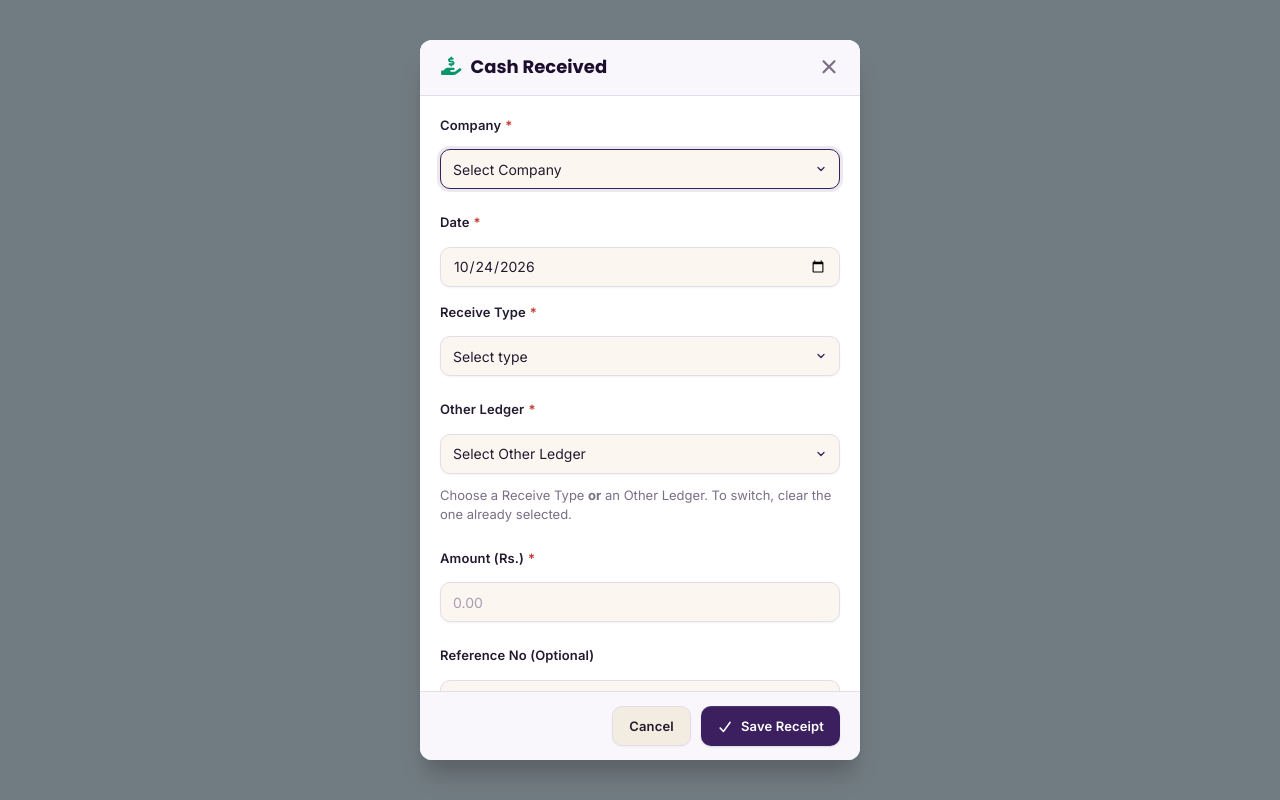
Test case: a validation error is shown at the top of the form and marks the field
The width and height of the screenshot is (1280, 800).
Click the button "Save Receipt": (770, 726) [701,706,840,746]
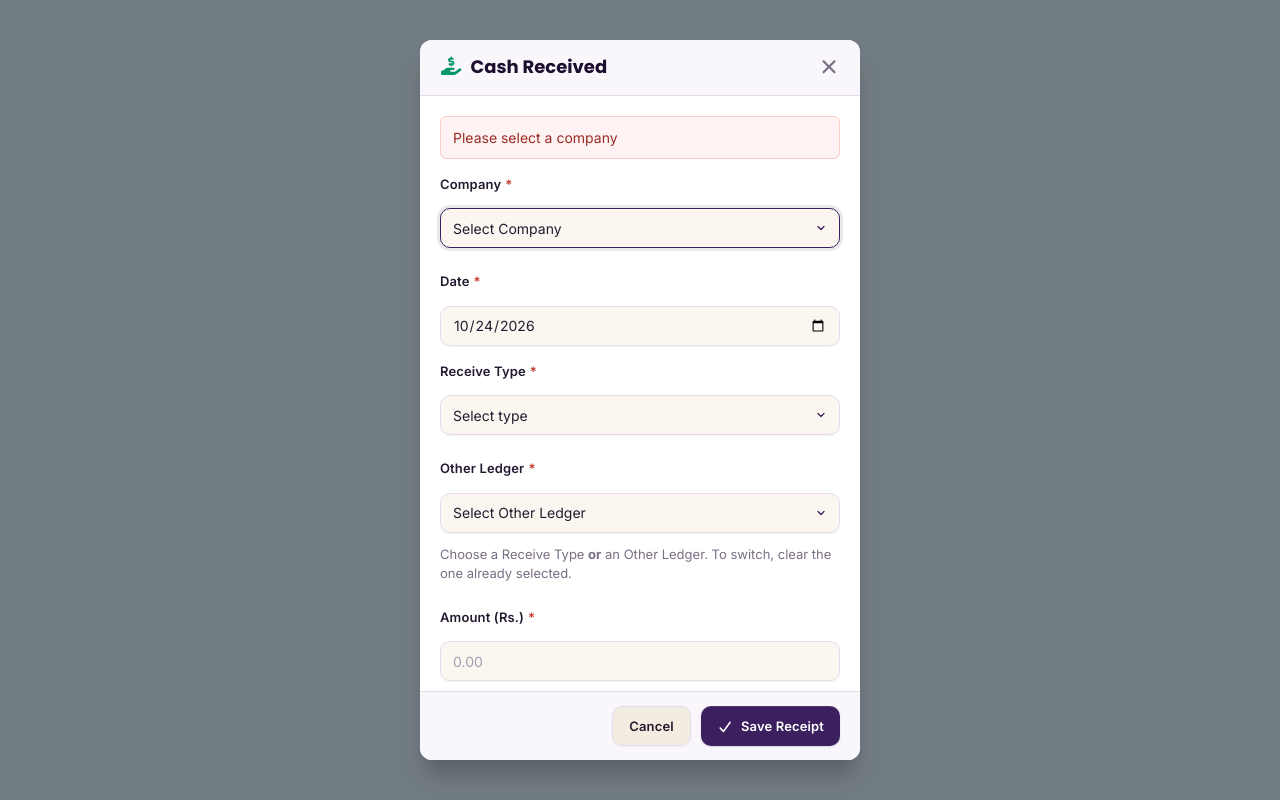
Now the message reads "Please select a company", box [453,128,618,146]
